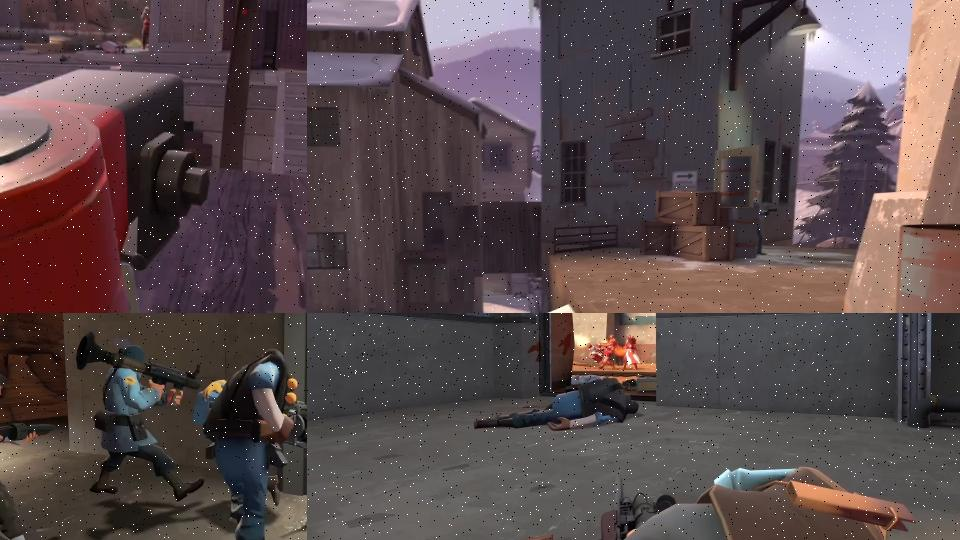Enemy: (434, 462, 922, 540), (75, 332, 207, 501), (202, 347, 307, 540), (0, 365, 52, 540), (472, 378, 639, 432), (586, 334, 618, 370), (621, 333, 642, 370), (140, 5, 152, 49), (98, 37, 128, 53)
